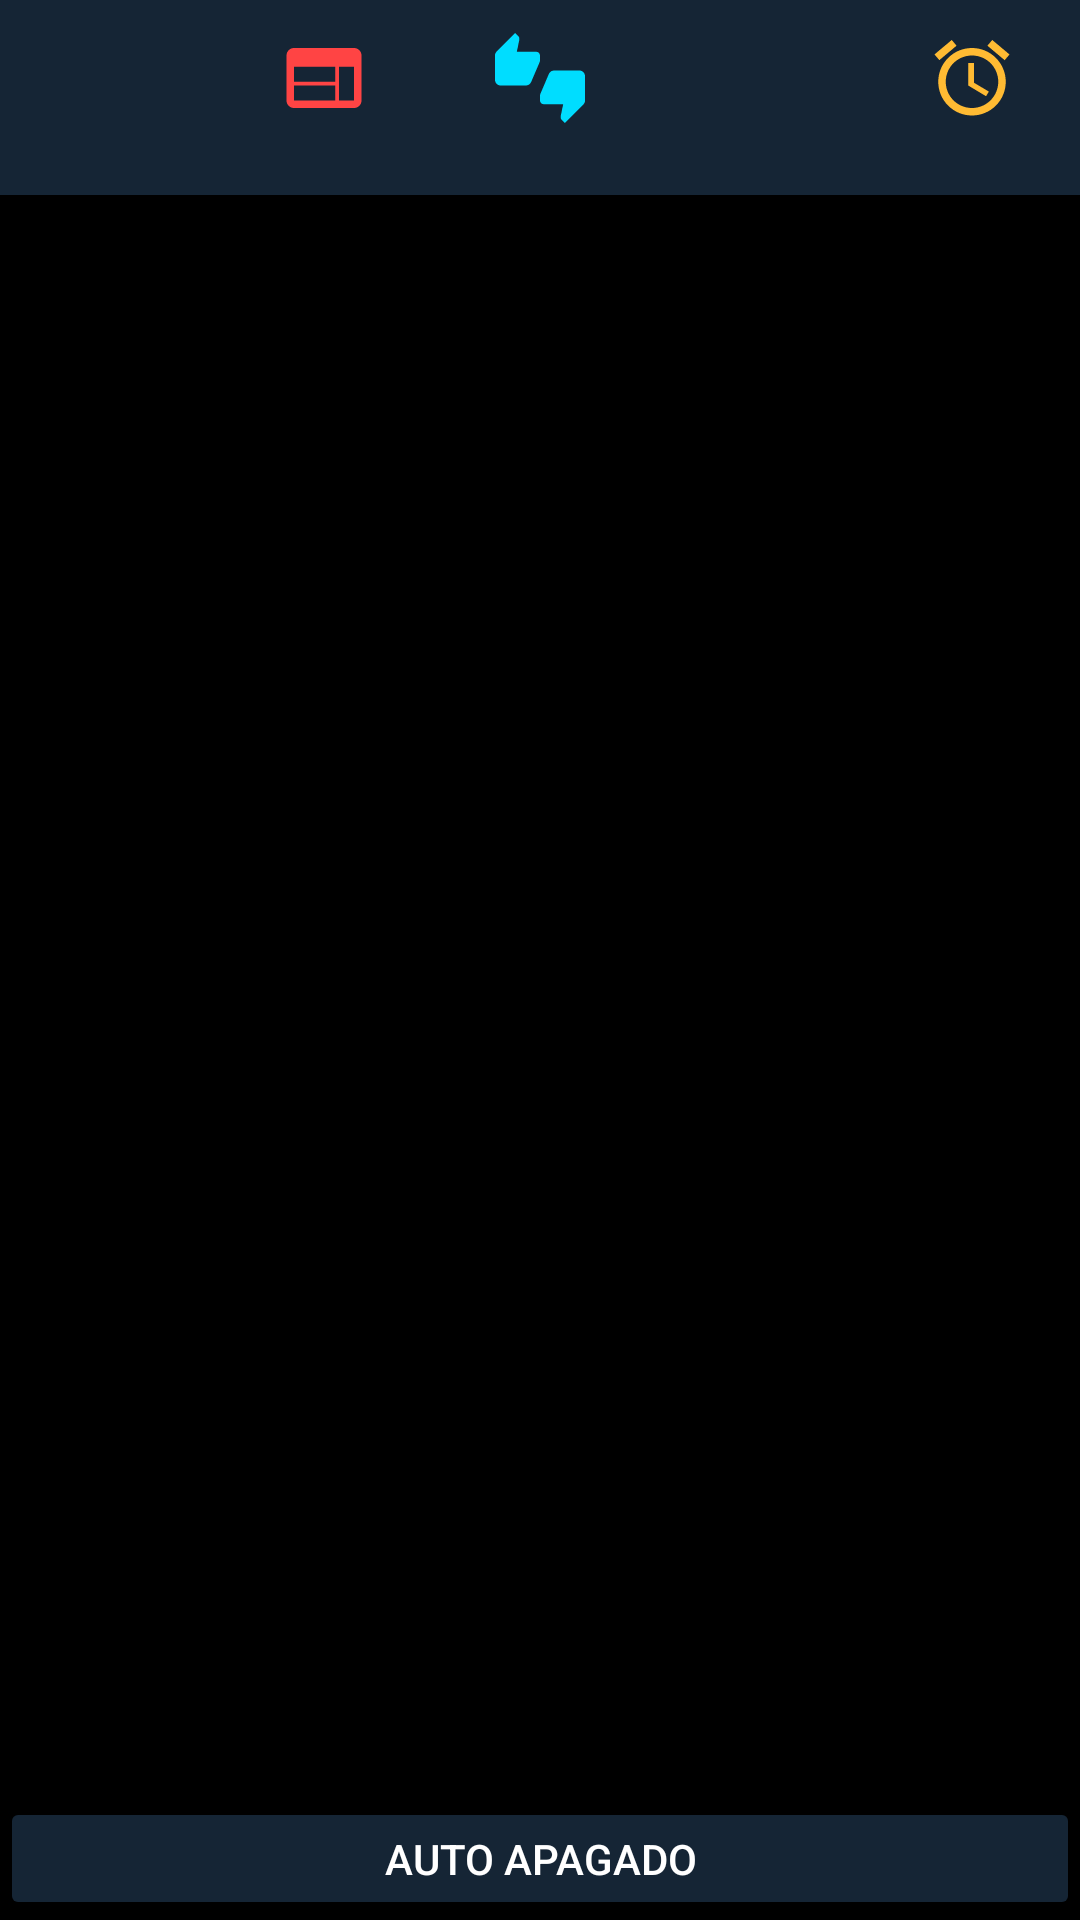

Where to tap for icons on this 1080*1920 app screen, as [x,y]:
alarm: [972,78]
web: [324,78]
